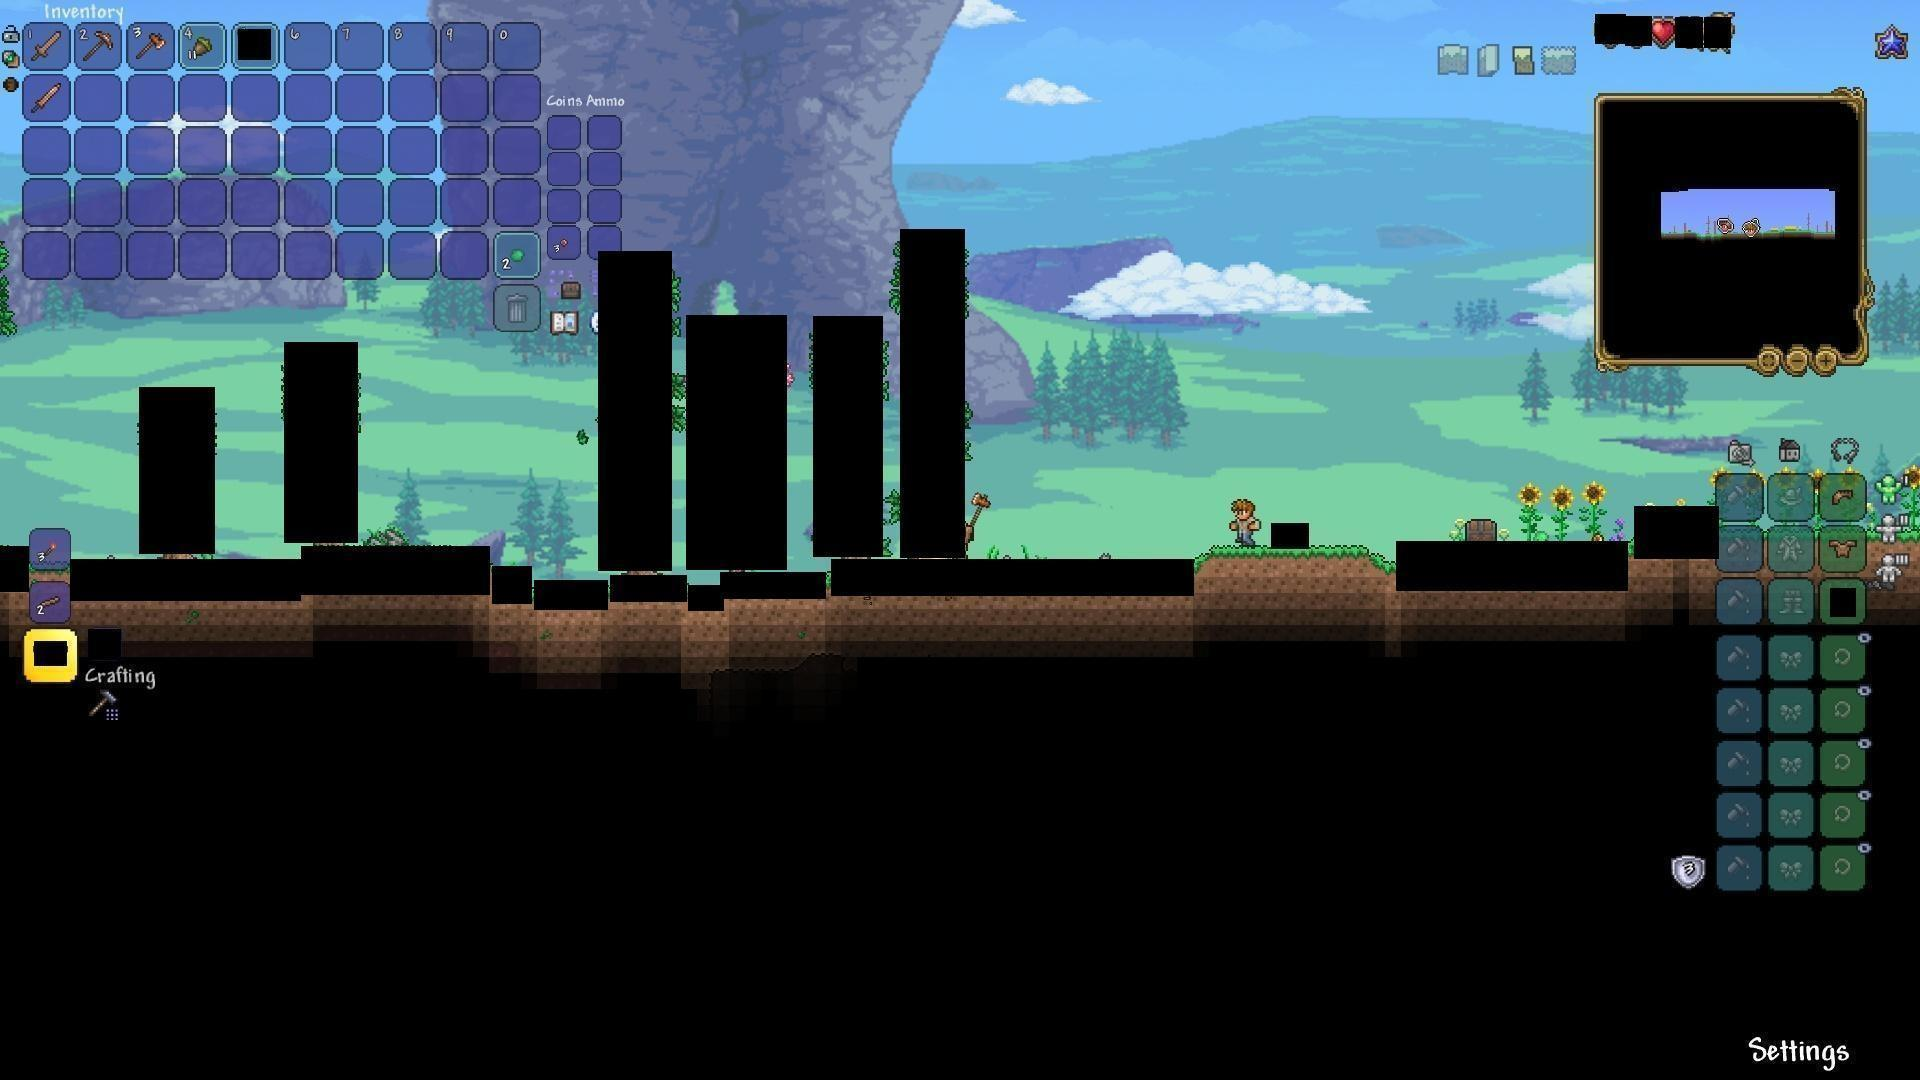breastplate: (1830, 539, 1859, 560)
dirt: (1192, 545, 1396, 585)
heart: (1648, 17, 1676, 47)
helmet: (1829, 483, 1859, 509)
